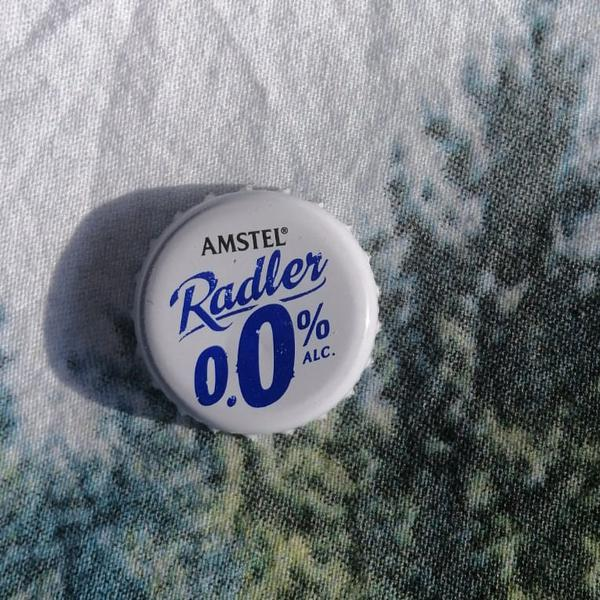amstelradler0.0: (122, 179, 391, 454)
